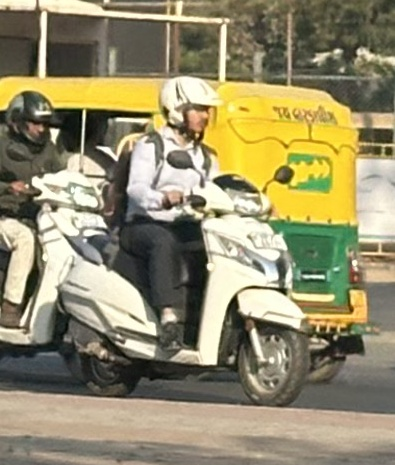BikeWithRider: (61, 72, 318, 415), (1, 89, 122, 376)
Helmet: (152, 71, 222, 138), (0, 88, 59, 146)
